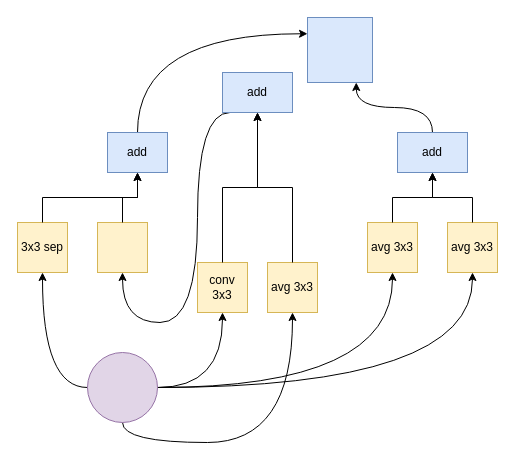
This 515x460 diagram has some shape labels left out. Each missing label, with the centre of its shape:
"concat" belongs at (x=339, y=49).
"Input" belongs at (x=122, y=387).
"max 3x3" belongs at (x=122, y=247).
